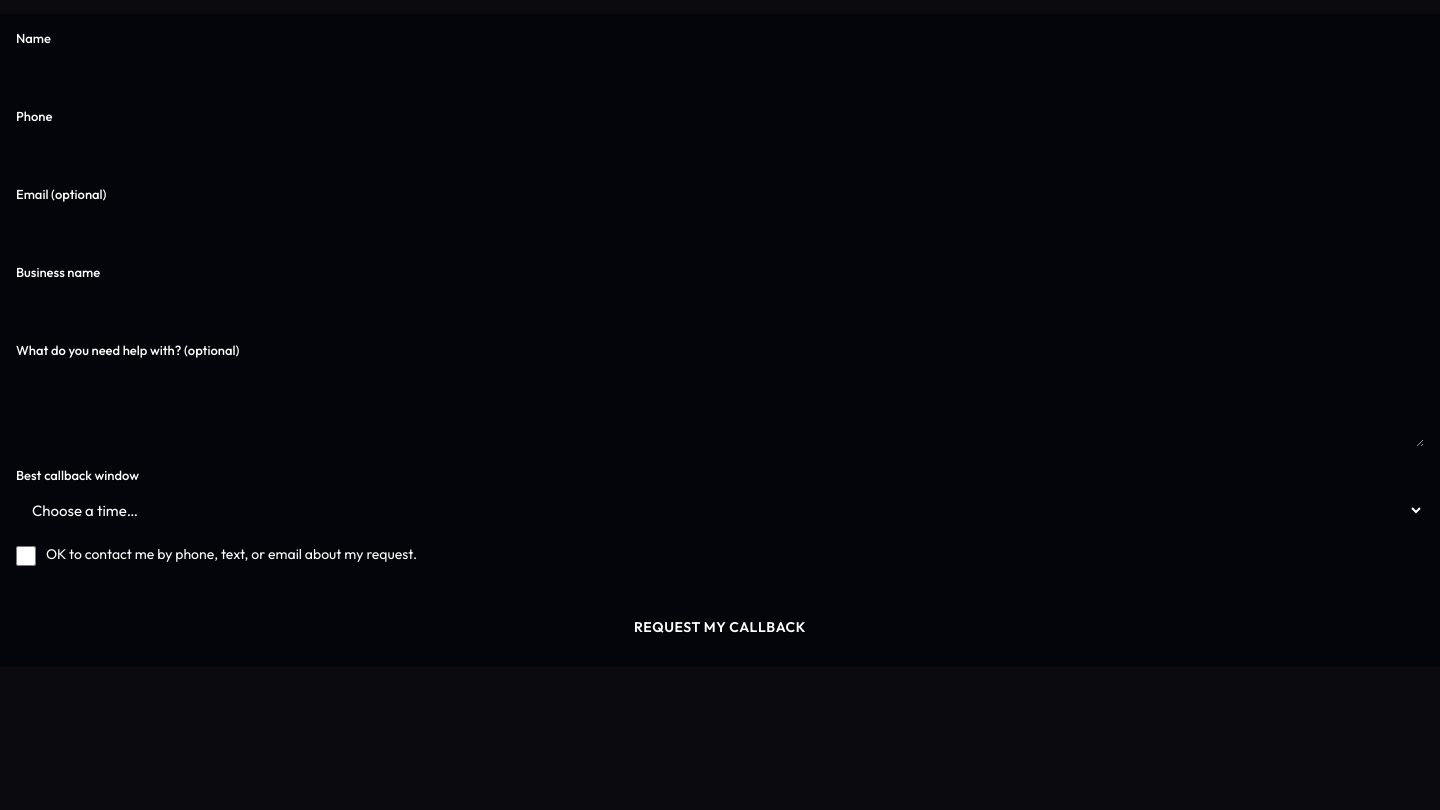
LeadForm › shows inline errors and does not submit when everything is empty
The image size is (1440, 810).
What coordinates should you click on to do the following:
click the button "Request my callback"
I would click on:
 (720, 627)
Its box is [16,603,1424,651].
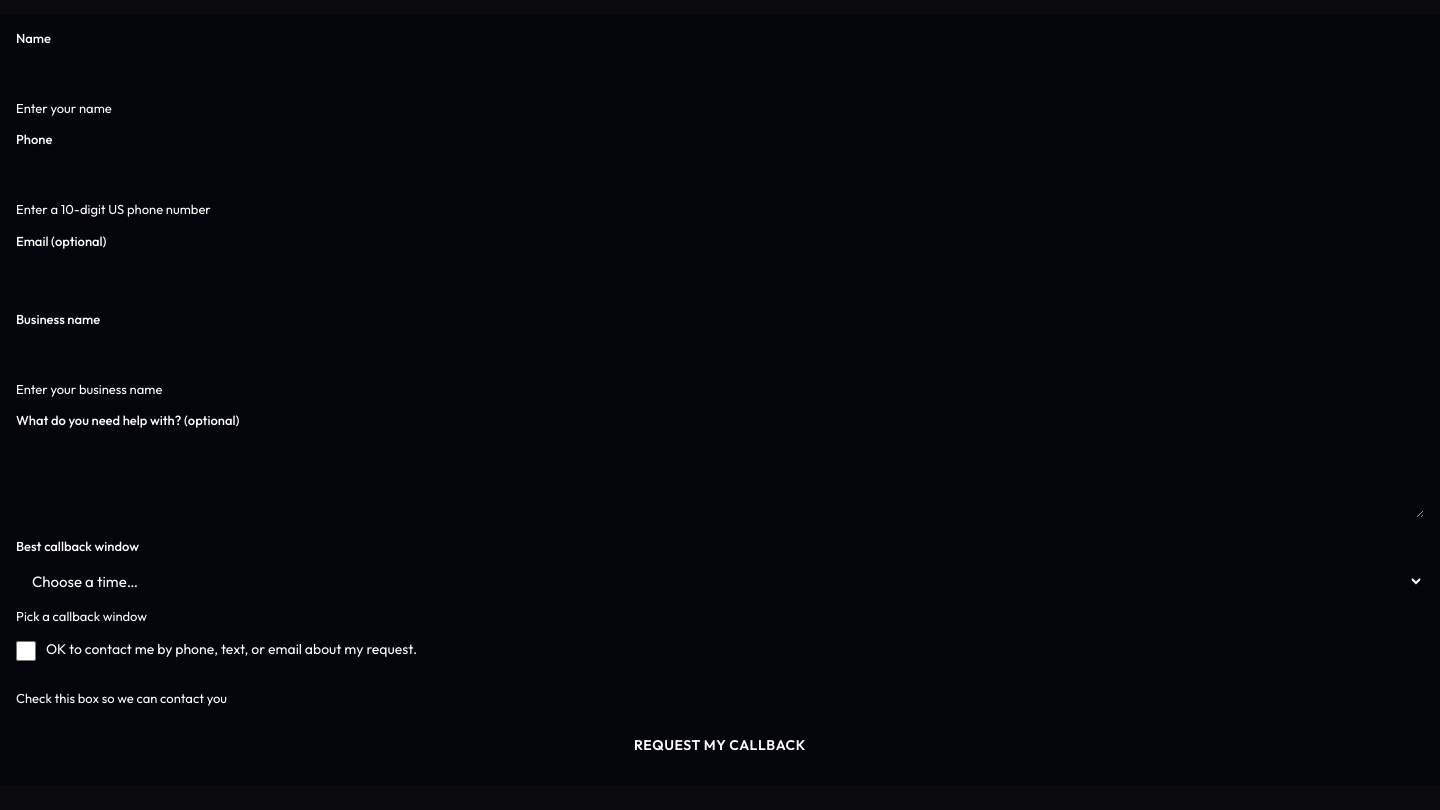
Result: the text "Enter your name" is shown at [16,100,112,116]
Result: the text "Enter a 10-digit US phone number" is shown at [16,201,211,217]
Result: the text "Enter your business name" is shown at [16,381,162,397]
